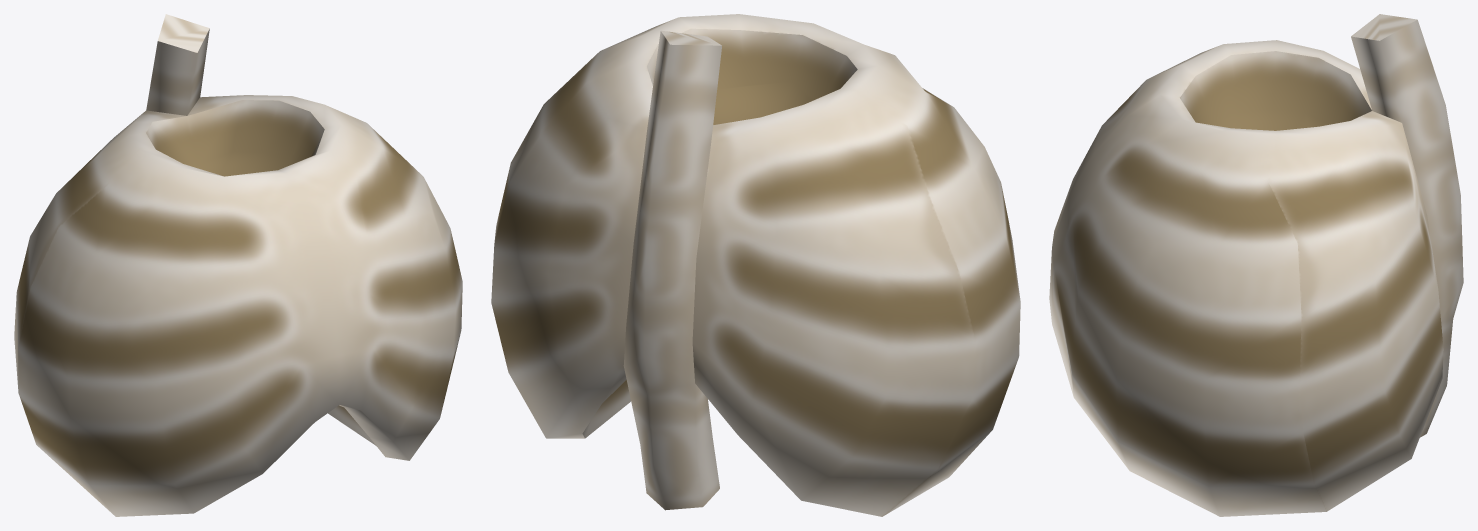
The model's file is Ribcage.fbx.
3 views of the same model, side by side, from view 1: azimuth 30°, elevation 25°; view 2: azimuth 150°, elevation 25°; view 3: azimuth 270°, elevation 25° (orthographic). The views are drawn at different scales.
Visible parts, largest first — view 1: Ribcage; view 2: Ribcage; view 3: Ribcage.
Boxes of the visible parts, <box> form: Ribcage: <box>14,14,462,516</box>; Ribcage: <box>491,14,1020,516</box>; Ribcage: <box>1049,14,1463,516</box>.
Bounding box in the file's own units: 35.47 × 33.35 × 29.57.
